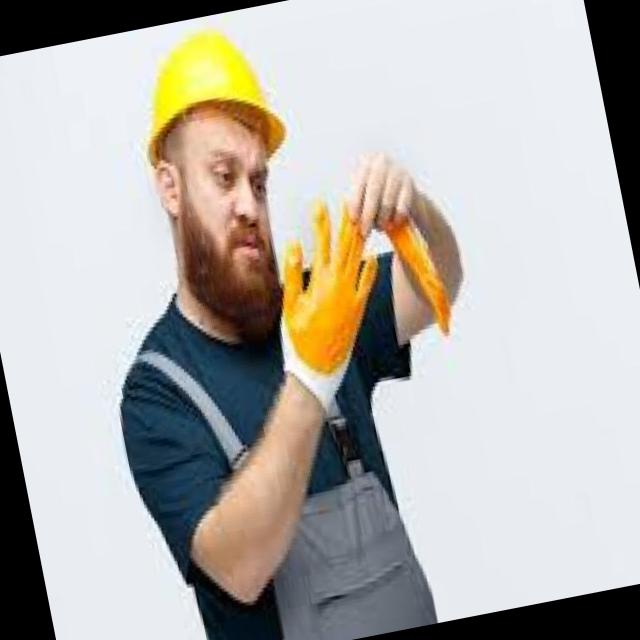gloved: (253, 187, 407, 421)
